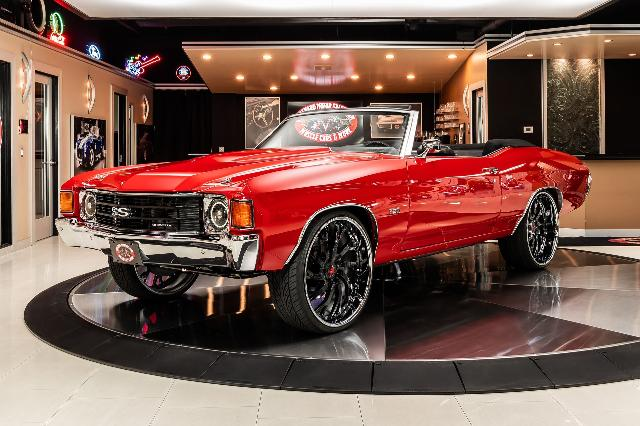chevelle-1972: (56, 105, 591, 334)
